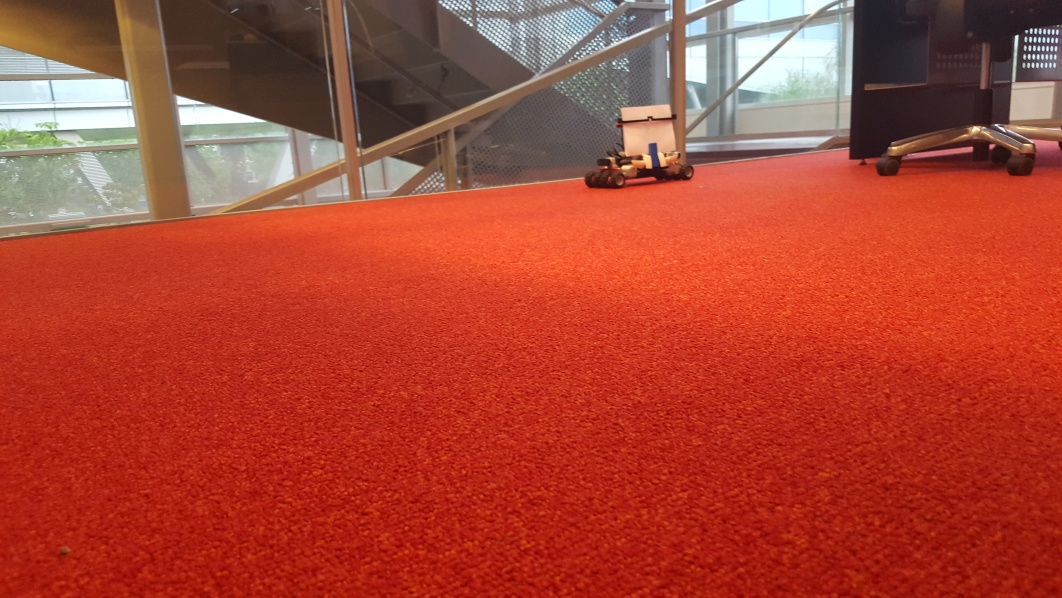car: (584, 104, 695, 188)
